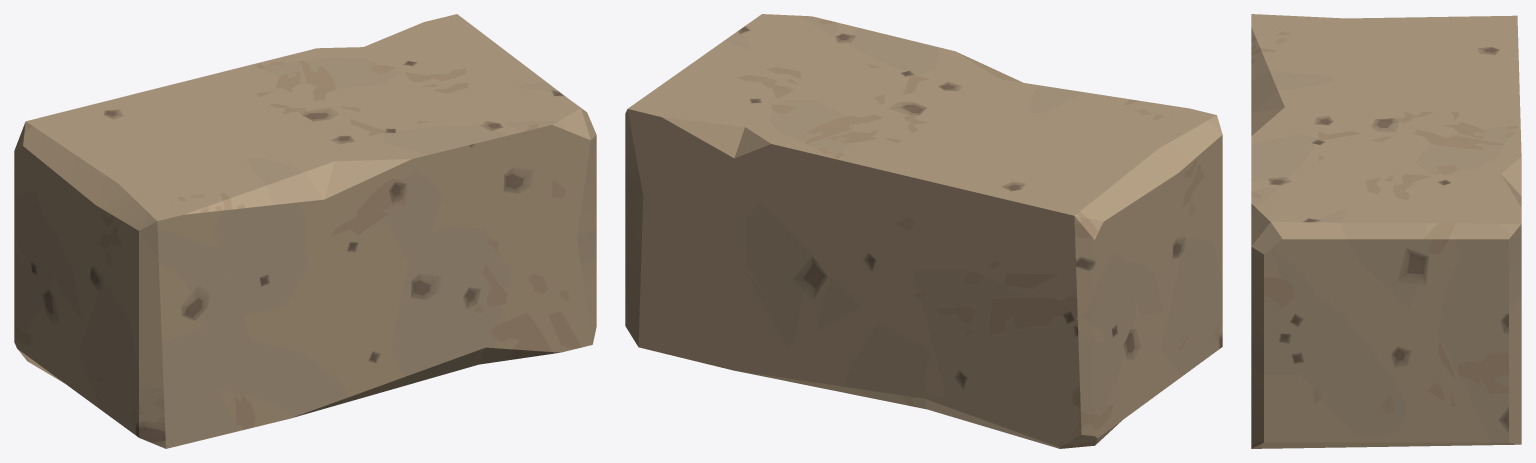
The model's file is SM_Bld_Trim_Temple_Ground_Half_01.fbx.
3 views of the same model, side by side, from view 1: azimuth 30°, elevation 25°; view 2: azimuth 150°, elevation 25°; view 3: azimuth 270°, elevation 25° (orthographic). The views are drawn at different scales.
Parts seen in each view (by area): view 1: SM_Bld_Trim_Temple_Ground_Half_01; view 2: SM_Bld_Trim_Temple_Ground_Half_01; view 3: SM_Bld_Trim_Temple_Ground_Half_01.
Part boxes in pixels (x1,y1,x2,y2): SM_Bld_Trim_Temple_Ground_Half_01: (14, 14, 596, 448); SM_Bld_Trim_Temple_Ground_Half_01: (625, 14, 1222, 448); SM_Bld_Trim_Temple_Ground_Half_01: (1251, 14, 1521, 448).
Size of the model in its own units: 250 by 120 by 130.
